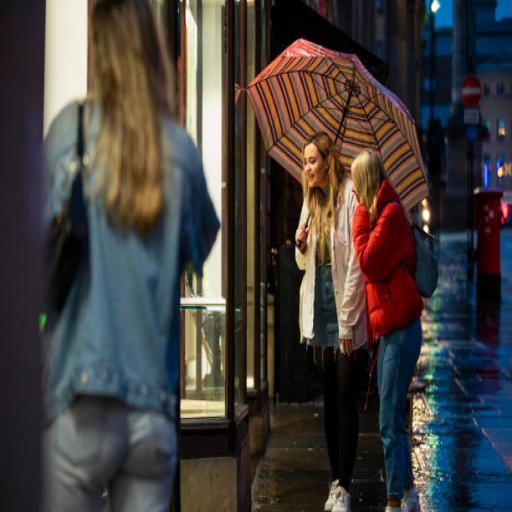guarda_chuva: (234, 36, 430, 223)
